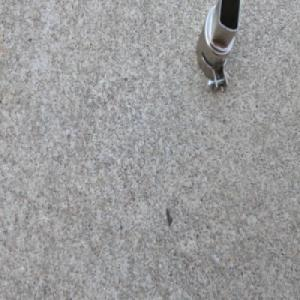MetalPart: (193, 0, 239, 99)
